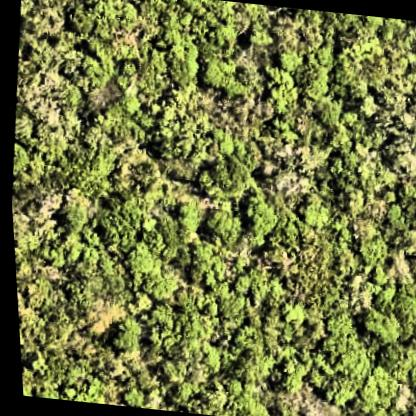tree-top: (148, 92, 221, 164), (49, 138, 119, 198), (321, 326, 377, 380), (176, 235, 231, 288), (256, 60, 307, 116), (235, 186, 286, 242), (345, 223, 394, 275), (156, 43, 206, 92), (376, 181, 416, 241), (198, 197, 248, 243), (116, 236, 164, 282), (354, 303, 405, 346), (51, 190, 98, 236), (228, 345, 277, 389), (196, 50, 244, 94), (134, 260, 183, 302), (317, 303, 364, 346), (102, 313, 143, 355), (291, 191, 330, 229), (169, 195, 206, 232)
